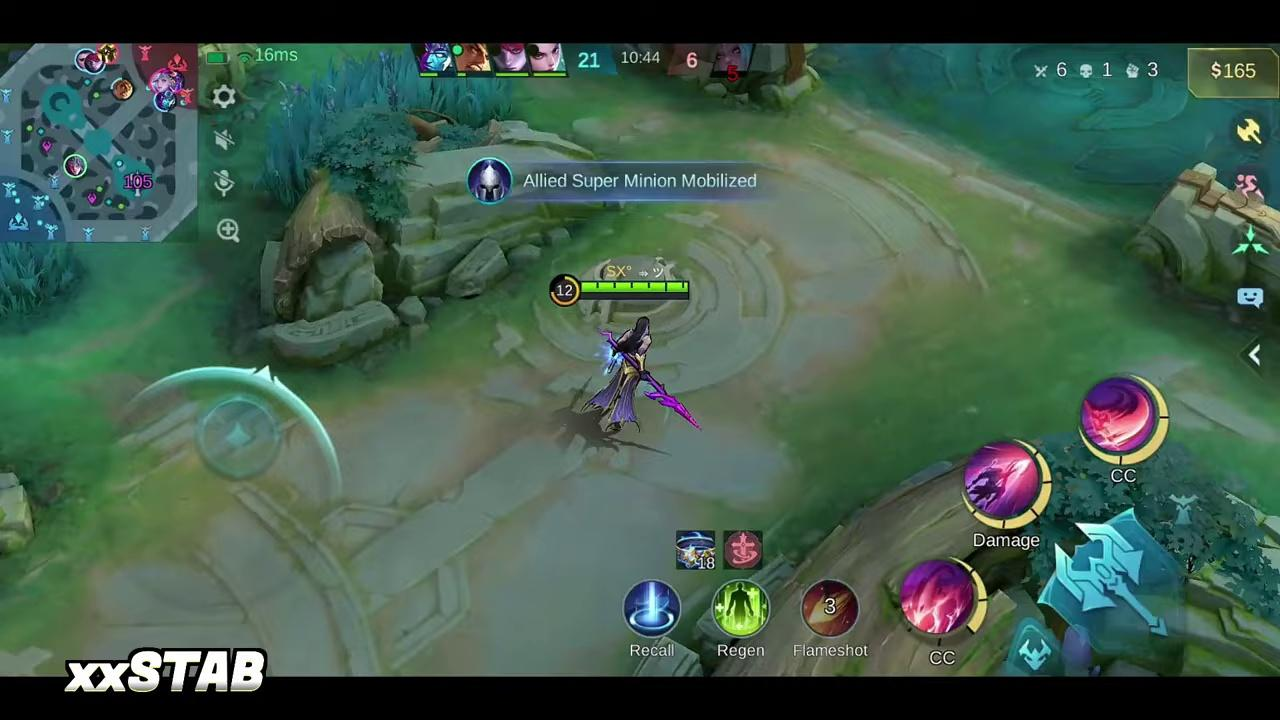Adc_Aliado: (75, 52, 90, 67)
Adc_Enemigo: (148, 74, 171, 93)
Arbusto: (252, 48, 507, 208), (0, 244, 84, 321)
Arlott: (586, 317, 694, 431)
Exp_Aliado: (62, 158, 87, 178)
Exp_Enemigo: (98, 47, 122, 62)
HP_Heroe_Principal: (581, 282, 688, 292)
Jungla_Aliado: (82, 57, 102, 71)
Mid_Aliado: (152, 92, 177, 109)
Minimapa: (0, 44, 200, 241)
Roamer_Aliado: (111, 76, 137, 101)
Roamer_Enemigo: (170, 74, 187, 89)
Skill1: (890, 563, 978, 638)
Skill2: (959, 441, 1047, 530)
Torre_destruida: (566, 254, 692, 309)
skill3: (1080, 374, 1168, 463)
